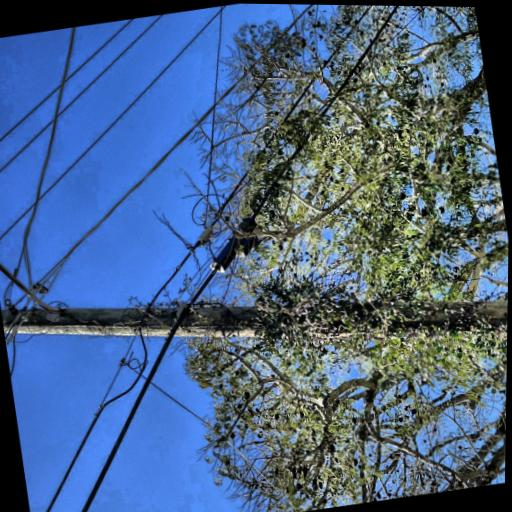pole: (0, 22, 175, 512)
street light: (57, 88, 229, 250)
transformer: (5, 78, 74, 183)
